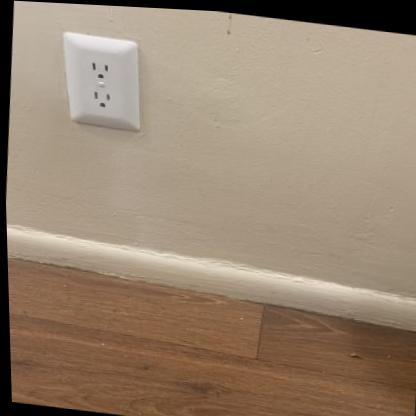OUTLET: (56, 29, 149, 135)
